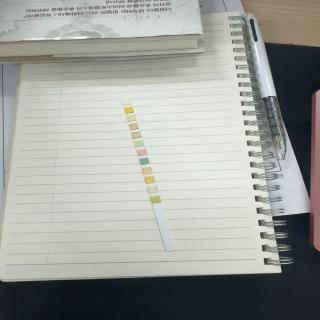mark: (150, 196, 160, 203), (144, 177, 154, 183), (142, 168, 152, 174), (148, 187, 157, 193), (140, 158, 148, 164), (138, 150, 146, 156), (135, 140, 143, 146), (132, 132, 140, 138), (130, 124, 138, 130), (128, 115, 136, 121), (122, 99, 130, 105), (126, 107, 132, 113)
